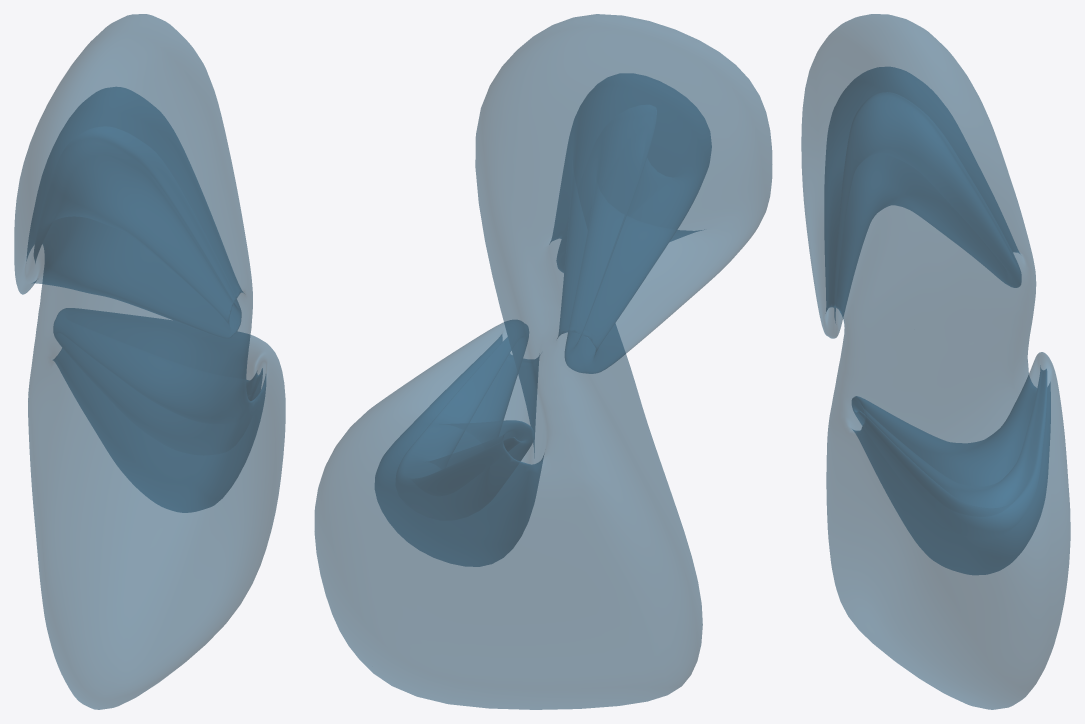
File: sculpture1.fbx
3 views of the same model, side by side, from view 1: azimuth 30°, elevation 25°; view 2: azimuth 150°, elevation 25°; view 3: azimuth 270°, elevation 25° (orthographic). The views are drawn at different scales.
Parts seen in each view (by area): view 1: Cube; view 2: Cube; view 3: Cube.
Part boxes in pixels (x1=…): Cube: x1=14, y1=14, x2=285, y2=709; Cube: x1=314, y1=14, x2=772, y2=709; Cube: x1=801, y1=14, x2=1070, y2=709.
Bounding box in the file's own units: 1.62 × 3.05 × 1.17.
